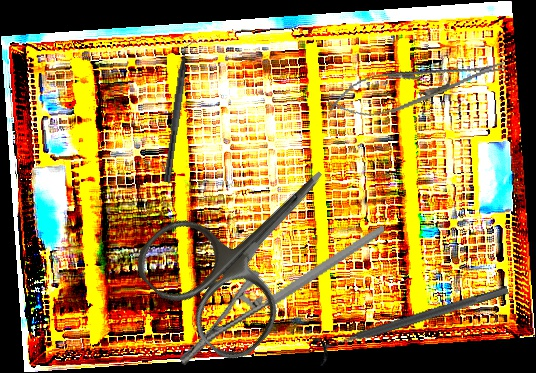Chopper: (163, 37, 199, 184)
Fixation Ring: (311, 275, 513, 368)
Iris Scissors: (126, 120, 376, 371)
Needle Holder: (160, 223, 405, 368), (323, 44, 512, 129)
